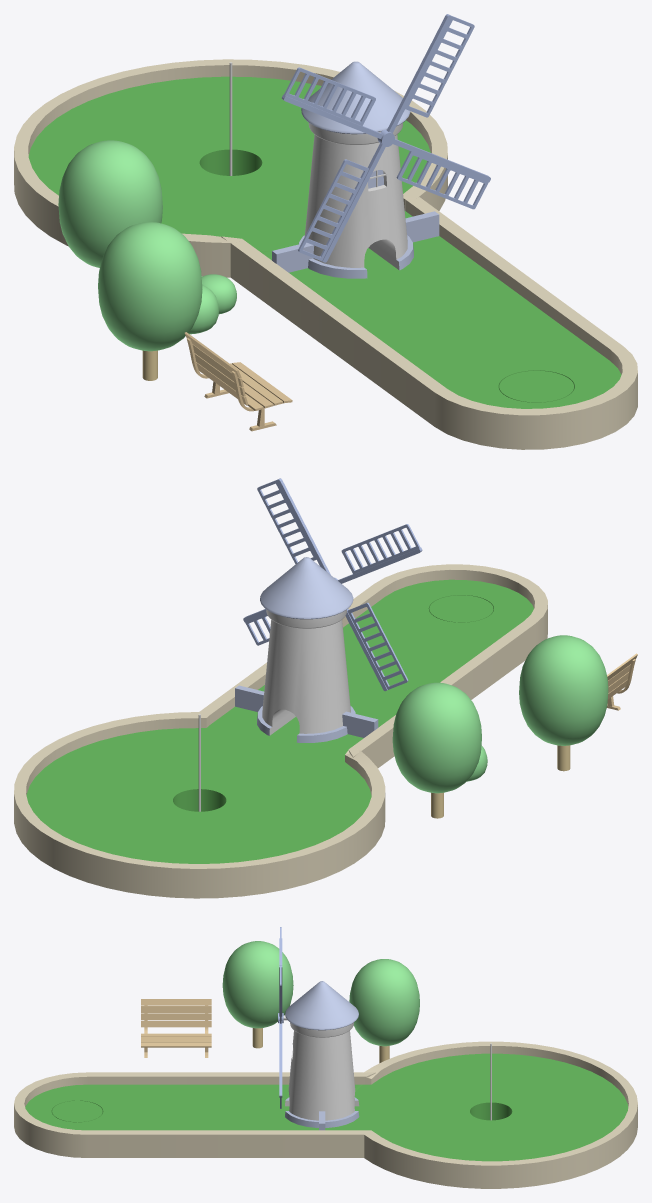
Rendered from Windmill03.glb.
3 renders of one model, top to bottom at view 1: azimuth 30°, elevation 25°; view 2: azimuth 150°, elevation 25°; view 3: azimuth 270°, elevation 25°, orthographic. The views are drawn at different scales.
Parts seen in each view (by area): view 1: Cube.029, Goal, Windmill, Sphere.012, Fan, Sphere.011, Cube.027, Flip, Cube.028, Sphere.009, Sphere.010; view 2: Goal, Cube.029, Windmill, Sphere.012, Sphere.011, Fan, Flip, Cube.028, Cube.027; view 3: Goal, Cube.029, Windmill, Sphere.012, Sphere.011, Cube.027, Flip, Fan.
Boxes of the visible parts, x1,y1,x2,y2 form: Cube.029: [221, 197, 637, 449]; Goal: [14, 59, 447, 277]; Windmill: [298, 61, 413, 278]; Sphere.012: [98, 222, 202, 380]; Fan: [281, 14, 490, 262]; Sphere.011: [58, 140, 162, 267]; Cube.027: [184, 332, 292, 431]; Flip: [499, 370, 574, 402]; Cube.028: [272, 211, 439, 272]; Sphere.009: [201, 274, 236, 314]; Sphere.010: [188, 285, 219, 334]; Goal: [14, 712, 385, 898]; Cube.029: [199, 564, 547, 767]; Windmill: [257, 557, 355, 742]; Sphere.012: [519, 635, 608, 771]; Sphere.011: [392, 682, 481, 818]; Fan: [243, 478, 422, 691]; Flip: [429, 595, 493, 622]; Cube.028: [235, 685, 378, 737]; Cube.027: [607, 653, 637, 710]; Goal: [347, 1041, 637, 1188]; Cube.029: [14, 1072, 375, 1157]; Windmill: [285, 981, 359, 1127]; Sphere.012: [222, 941, 293, 1048]; Sphere.011: [349, 959, 419, 1063]; Cube.027: [141, 999, 211, 1057]; Flip: [52, 1100, 102, 1122]; Fan: [278, 927, 283, 1108].
Bounding box in the file's own units: 4.42 × 2.46 × 7.27.
